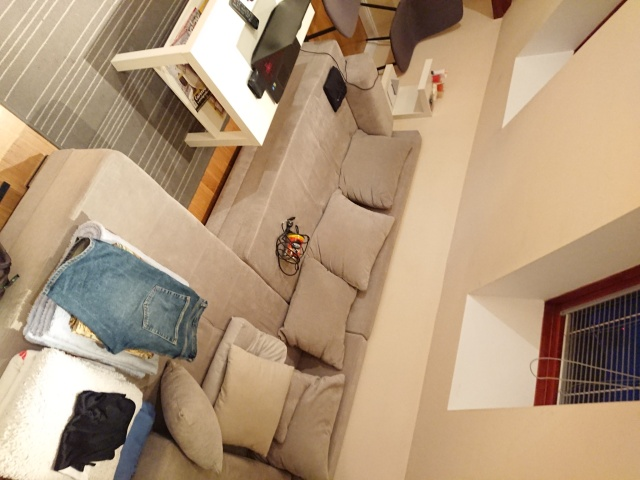Nescafe Classic 225g: (280, 231, 306, 266)
